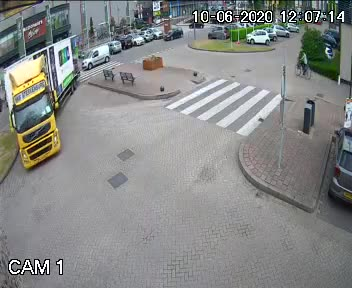car: (4, 24, 81, 178), (82, 39, 111, 70)
